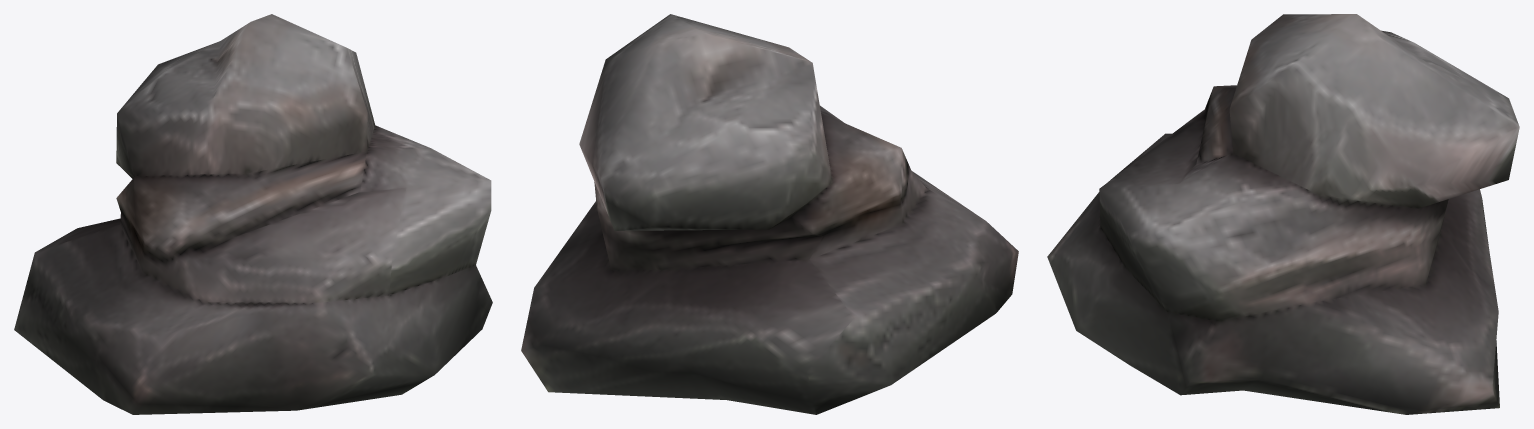
The model's file is Mid 5.fbx.
3 renders of one model, left to right at view 1: azimuth 30°, elevation 25°; view 2: azimuth 150°, elevation 25°; view 3: azimuth 270°, elevation 25°, orthographic. The views are drawn at different scales.
Parts seen in each view (by area): view 1: Mid_6; view 2: Mid_6; view 3: Mid_6.
Boxes of the visible parts, x1,y1,x2,y2 form: Mid_6: [14, 14, 492, 414]; Mid_6: [521, 14, 1018, 414]; Mid_6: [1047, 14, 1519, 414].
Size of the model in its own units: 351 by 279 by 343.
